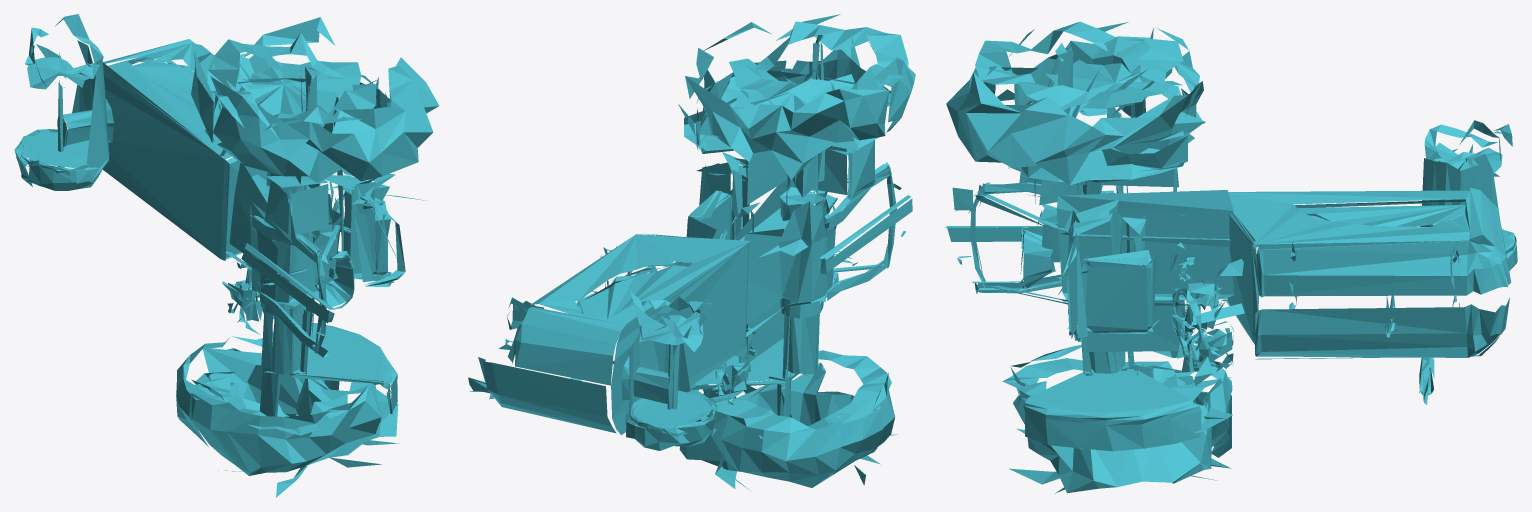
3 views of the same model, side by side, from view 1: azimuth 30°, elevation 25°; view 2: azimuth 150°, elevation 25°; view 3: azimuth 270°, elevation 25° (orthographic). The views are drawn at different scales.
Visible parts, largest first — view 1: Renderer Node; view 2: Renderer Node; view 3: Renderer Node.
Part boxes in pixels (bbox=[...]): Renderer Node: bbox=[14, 14, 439, 497]; Renderer Node: bbox=[468, 14, 915, 489]; Renderer Node: bbox=[945, 21, 1517, 493].
Bounding box in the file's own units: 0.7796 × 1.15 × 1.42.
1 material, 1 textured.
